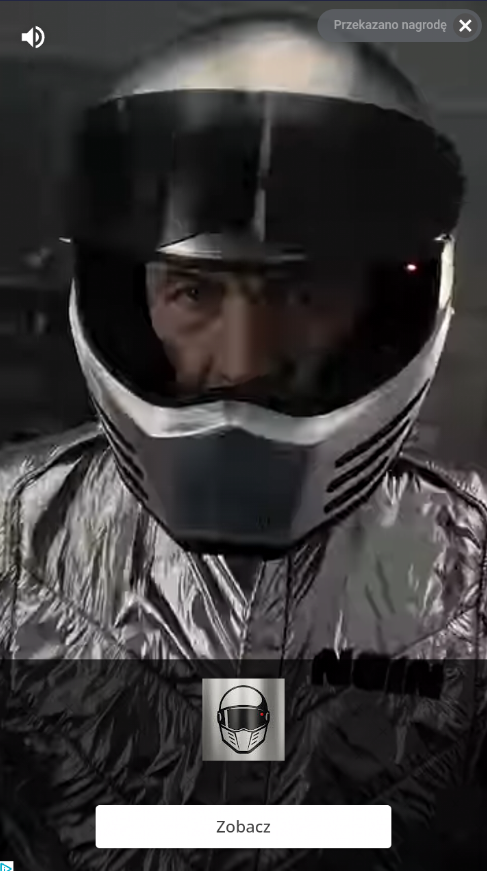close_button: (452, 14, 475, 39)
